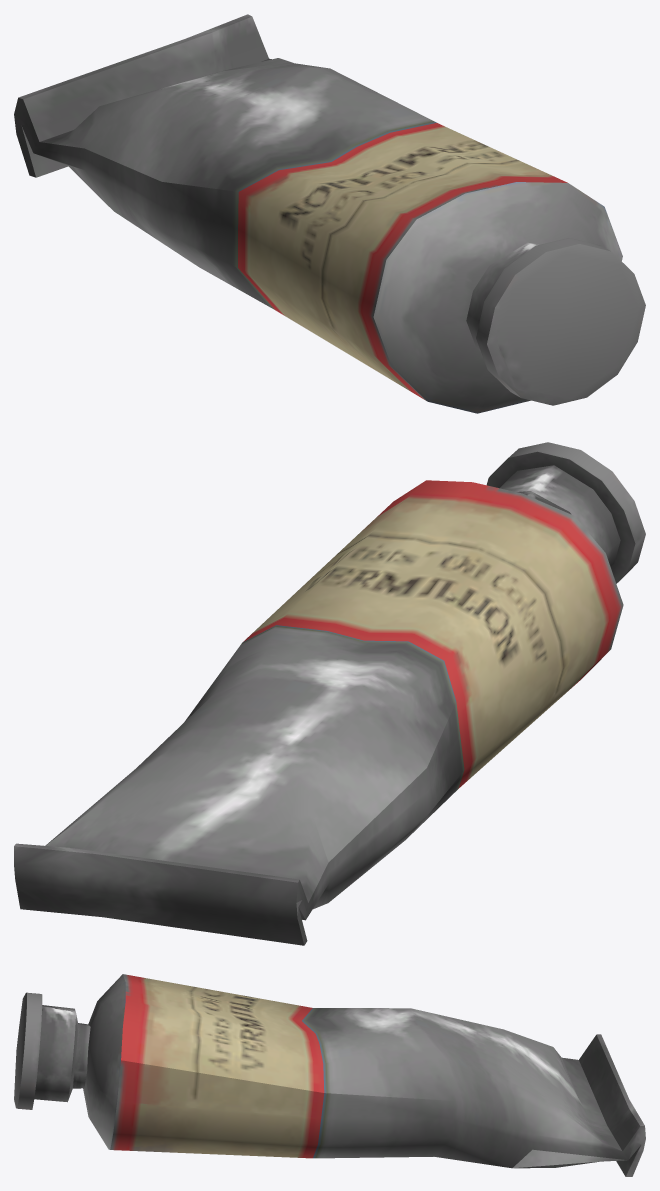
3 views of the same model, one above another, from view 1: azimuth 30°, elevation 25°; view 2: azimuth 150°, elevation 25°; view 3: azimuth 270°, elevation 25° (orthographic). The views are drawn at different scales.
Parts seen in each view (by area): view 1: SM_Tube_1; view 2: SM_Tube_1; view 3: SM_Tube_1.
Part boxes in pixels (<box>): SM_Tube_1: <box>14,14,645,413</box>; SM_Tube_1: <box>14,442,645,945</box>; SM_Tube_1: <box>14,974,645,1176</box>.
Bounding box in the file's own units: 0.0443 × 0.0338 × 0.1293.
Materials: 1 (1 with a texture image).
